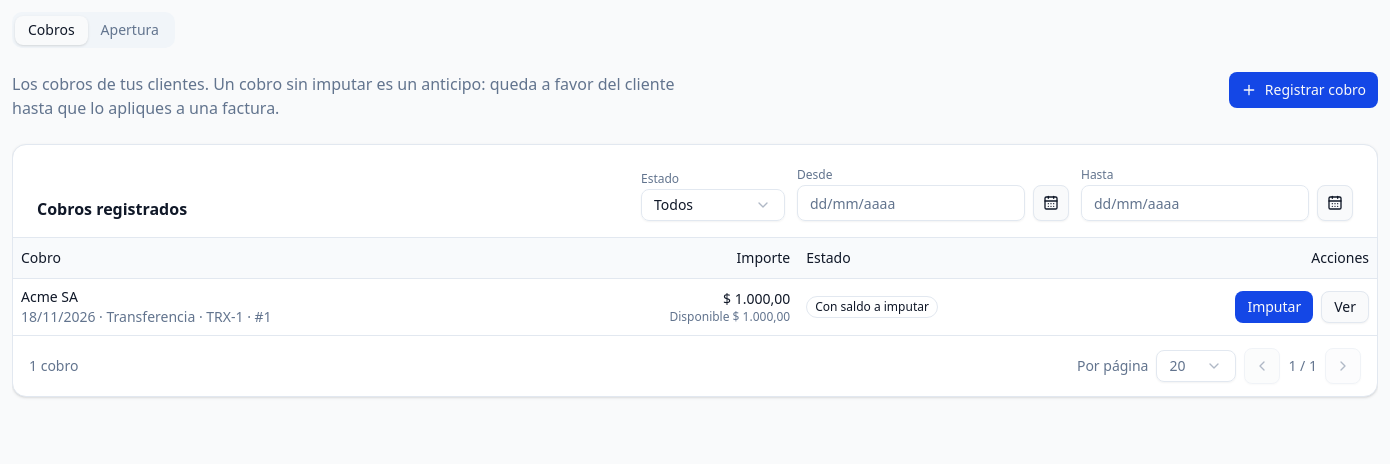
Test case: Cuenta corriente: contenedor › la pestaña Apertura muestra la apertura confirmada, de solo lectura
The width and height of the screenshot is (1390, 464).
Click the tab "Apertura": click(130, 30) [88, 16, 172, 44]
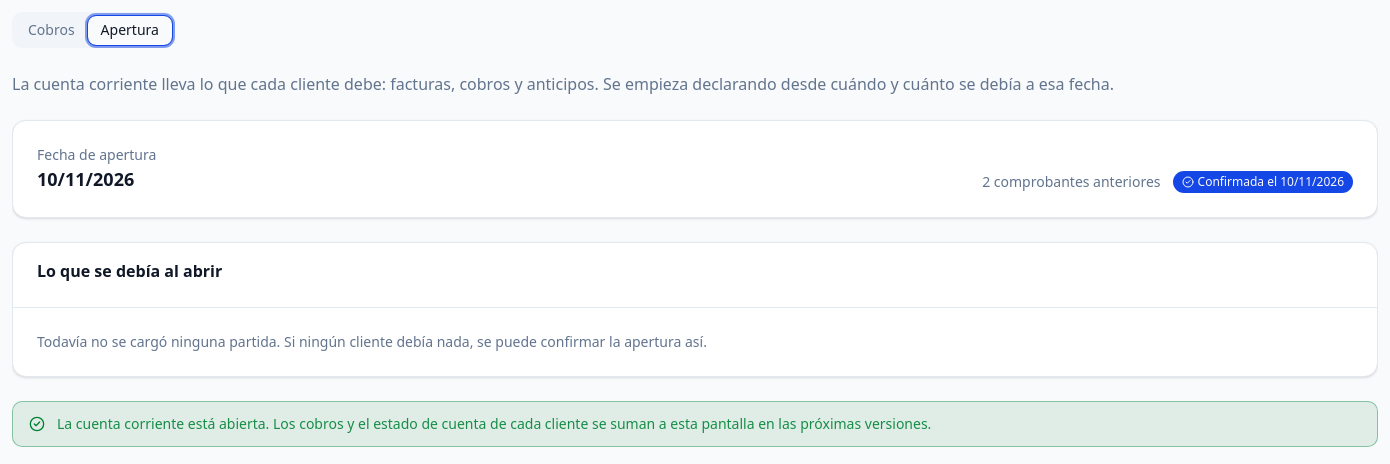
Now the text "Confirmada el 10/11/2026" is shown, box [1172, 171, 1353, 193]
